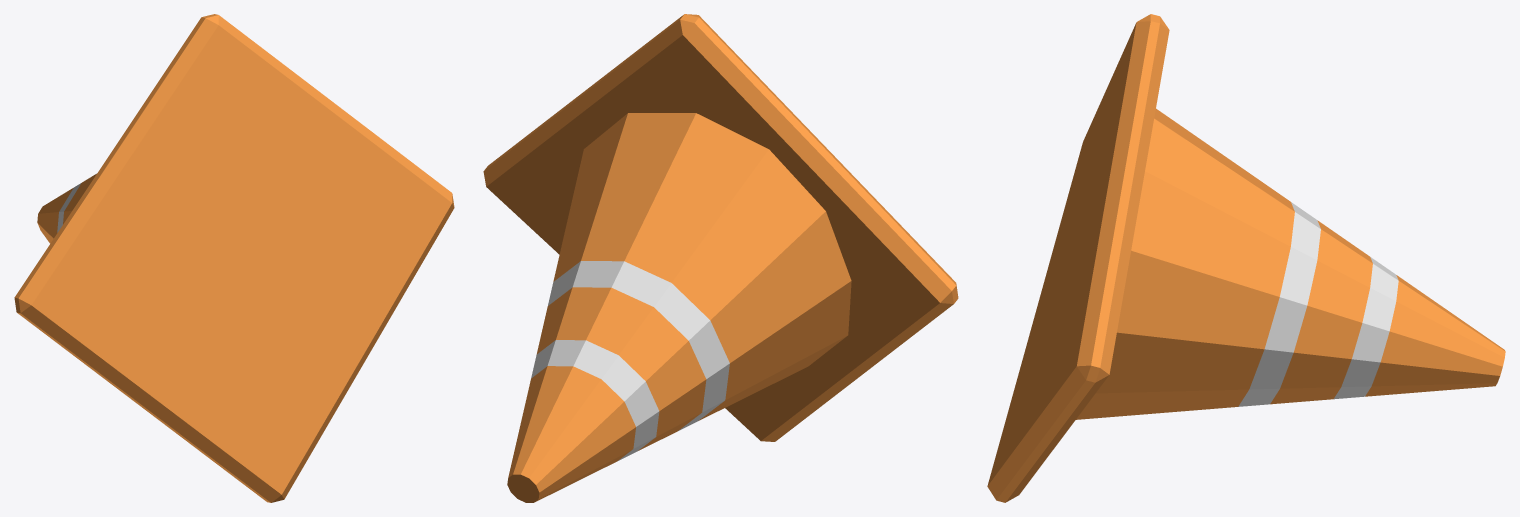
The model's file is ConeHat.fbx.
3 renders of one model, left to right at view 1: azimuth 30°, elevation 25°; view 2: azimuth 150°, elevation 25°; view 3: azimuth 270°, elevation 25°, orthographic. The views are drawn at different scales.
Visible parts, largest first — view 1: Plane; view 2: Plane; view 3: Plane.
Boxes of the visible parts, bbox=[...] form: Plane: bbox=[14, 14, 454, 502]; Plane: bbox=[483, 14, 958, 502]; Plane: bbox=[987, 14, 1505, 502].
Size of the model in its own units: 133 by 128 by 125.
